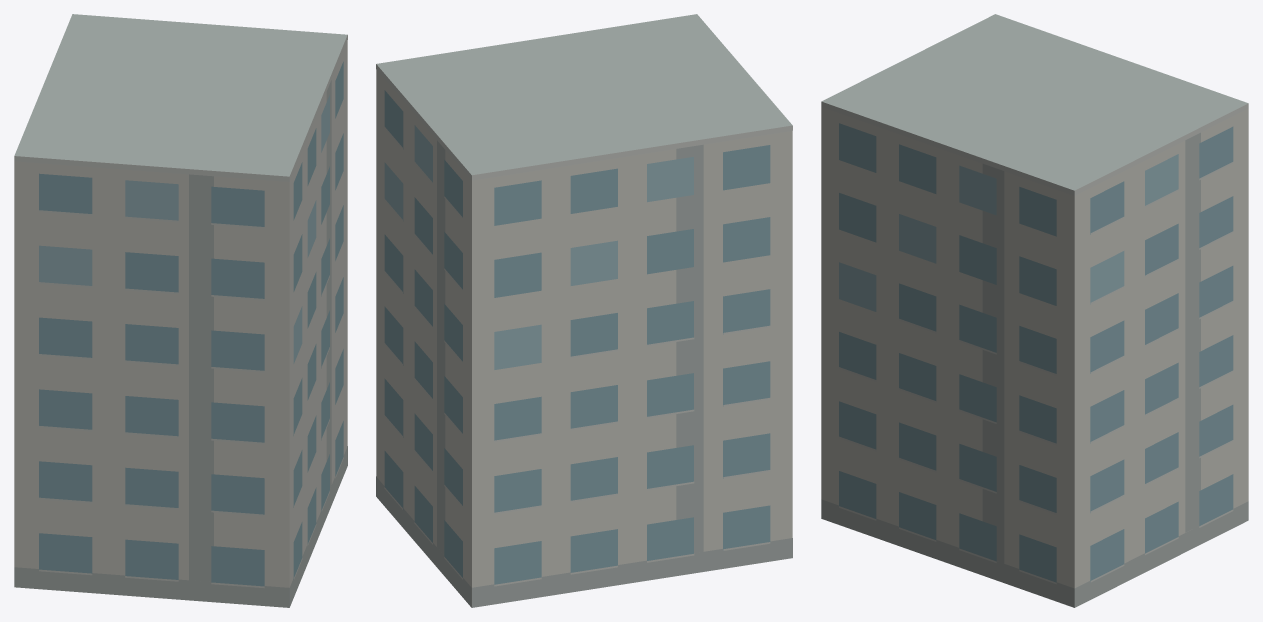
Rendered from survey-upis-32894149.glb.
3 views of the same model, side by side, from view 1: azimuth 30°, elevation 25°; view 2: azimuth 150°, elevation 25°; view 3: azimuth 270°, elevation 25° (orthographic). The views are drawn at different scales.
Visible parts, largest first — view 1: survey-upis-32894149.tmp; view 2: survey-upis-32894149.tmp; view 3: survey-upis-32894149.tmp.
Boxes of the visible parts, bbox=[...] form: survey-upis-32894149.tmp: bbox=[14, 14, 347, 607]; survey-upis-32894149.tmp: bbox=[376, 14, 792, 607]; survey-upis-32894149.tmp: bbox=[821, 14, 1248, 607].
Bounding box in the file's own units: 17.86 × 19.65 × 18.25.
